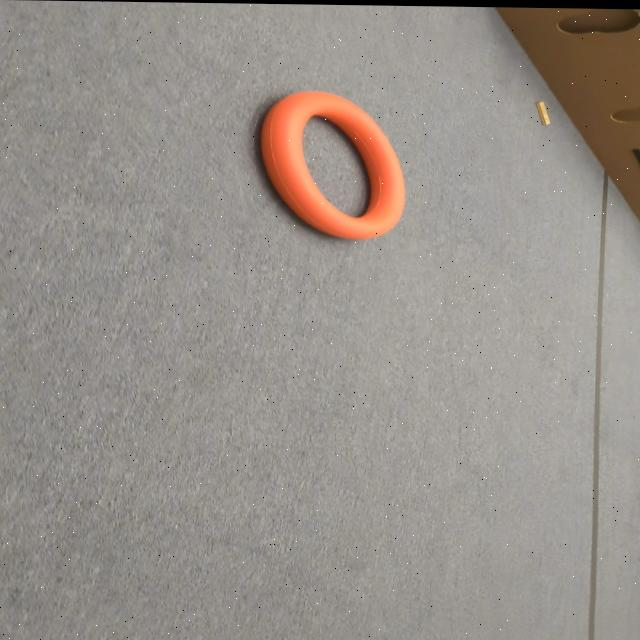note: (264, 89, 406, 236)
